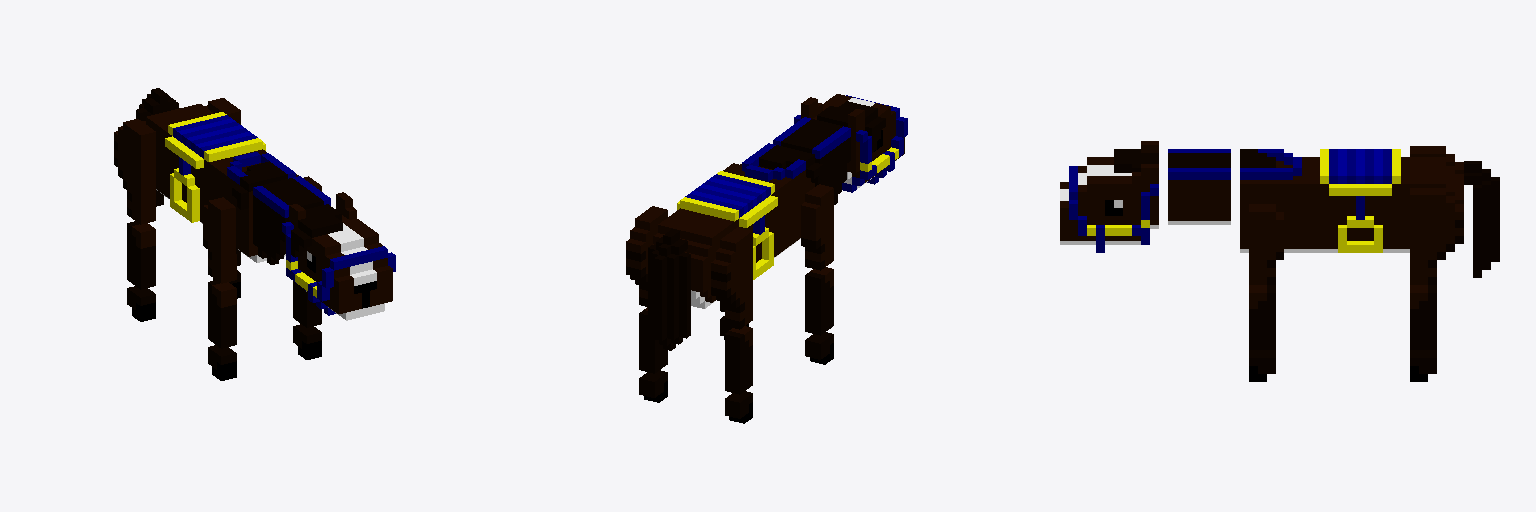
The picture shows the model from 3 angles: view 1: azimuth 30°, elevation 25°; view 2: azimuth 150°, elevation 25°; view 3: azimuth 270°, elevation 25°; orthographic projection.
Parts seen in each view (by area): view 1: VS_Knights_Animals_Horse_001; view 2: VS_Knights_Animals_Horse_001; view 3: VS_Knights_Animals_Horse_001.
Boxes of the visible parts, <box> form: VS_Knights_Animals_Horse_001: <box>114,88,395,380</box>; VS_Knights_Animals_Horse_001: <box>626,94,907,423</box>; VS_Knights_Animals_Horse_001: <box>1060,141,1499,381</box>.
Size of the model in its own units: 1.3 by 2.5 by 4.9.
1 materials, 1 textured.